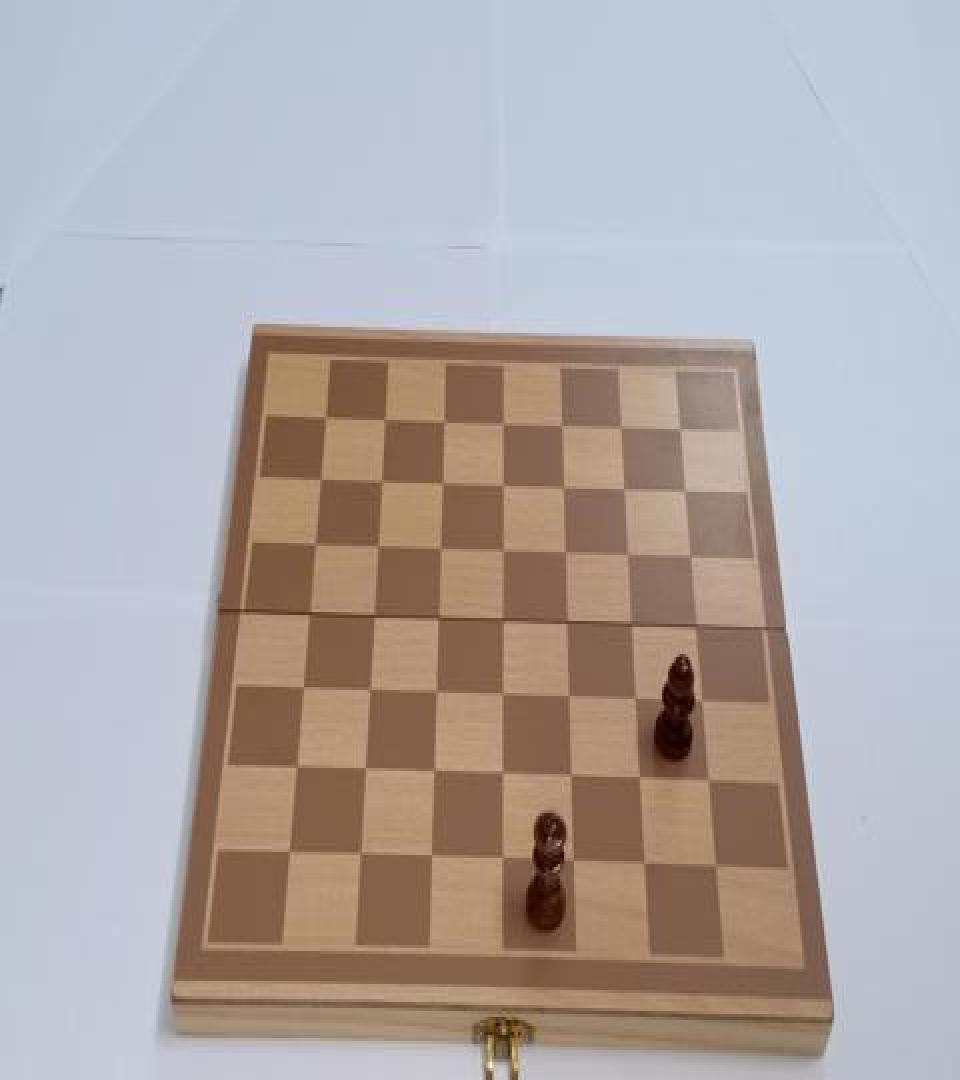xcorner: (435, 406, 453, 434), (495, 472, 513, 500), (679, 478, 697, 506), (316, 404, 334, 431), (311, 465, 329, 492), (305, 532, 323, 559), (299, 603, 317, 630), (293, 678, 311, 705), (280, 843, 298, 870), (376, 405, 394, 432), (372, 468, 390, 495), (369, 534, 387, 561), (365, 604, 383, 631), (356, 759, 374, 786), (351, 844, 369, 871), (434, 470, 452, 497), (432, 537, 450, 564), (428, 683, 446, 710), (426, 762, 444, 789), (495, 538, 513, 565), (495, 609, 513, 636), (495, 684, 513, 711), (495, 849, 513, 876), (555, 411, 573, 438), (556, 474, 574, 501), (558, 540, 576, 567), (560, 612, 578, 639), (562, 687, 580, 714), (565, 766, 583, 793), (567, 852, 585, 879), (614, 414, 632, 441), (618, 477, 636, 504), (621, 543, 639, 570), (629, 689, 647, 716), (634, 768, 652, 795), (674, 415, 692, 442), (684, 545, 702, 572), (690, 615, 708, 642), (703, 771, 721, 798), (710, 857, 728, 884), (287, 758, 305, 784), (361, 680, 379, 706), (430, 608, 448, 634), (423, 848, 441, 874), (495, 410, 513, 436), (495, 764, 513, 790), (625, 614, 643, 640), (639, 854, 657, 880), (696, 692, 714, 718)
